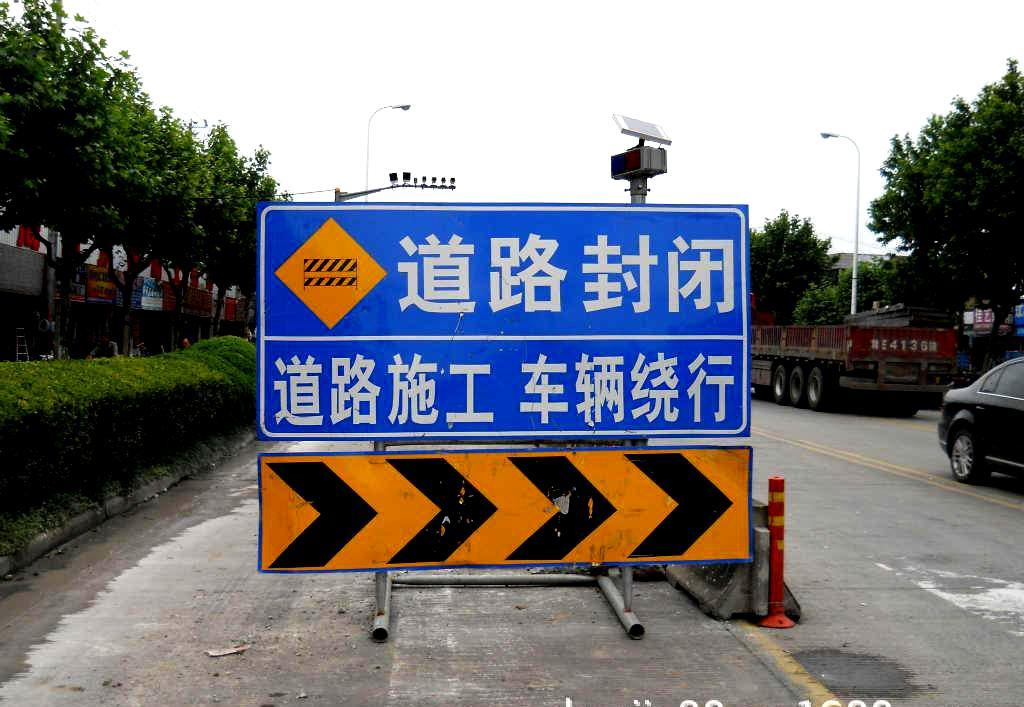sign: (259, 204, 753, 565)
